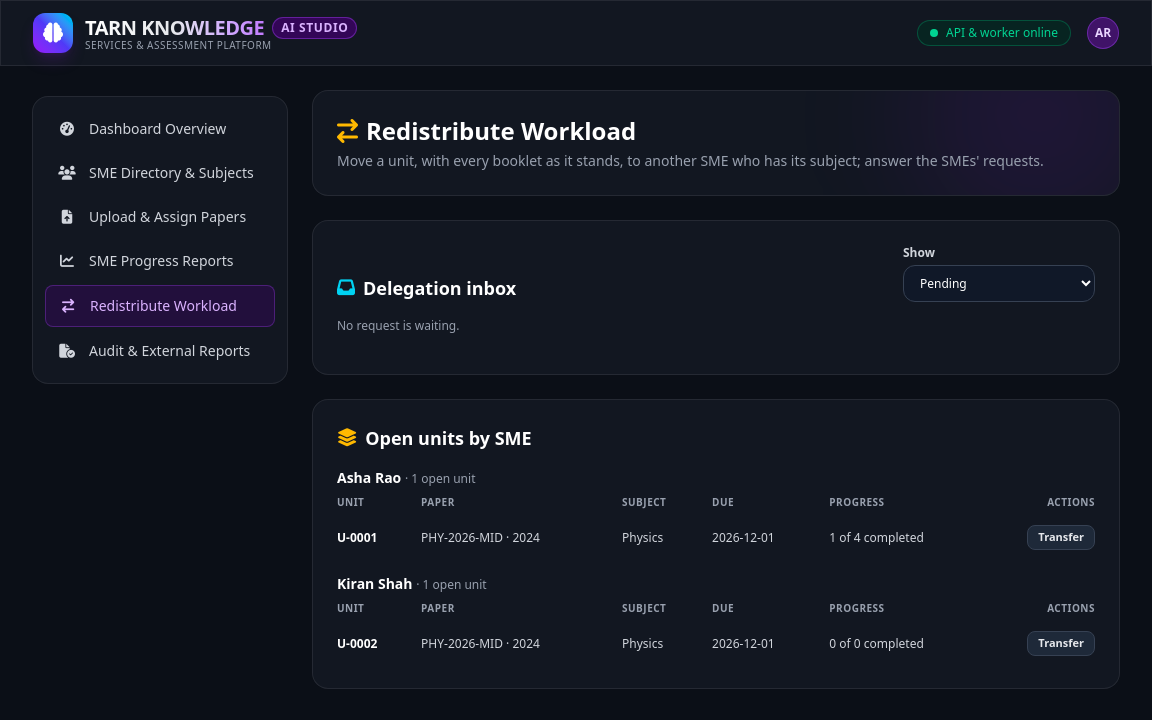
Test: Redistribute Workload › filters the inbox by state
Expected: the text "No request is waiting." is shown, [337,317,459,334]
Select "Declined" in the dropdown labelled "Show": (999, 284) [903,265,1095,302]
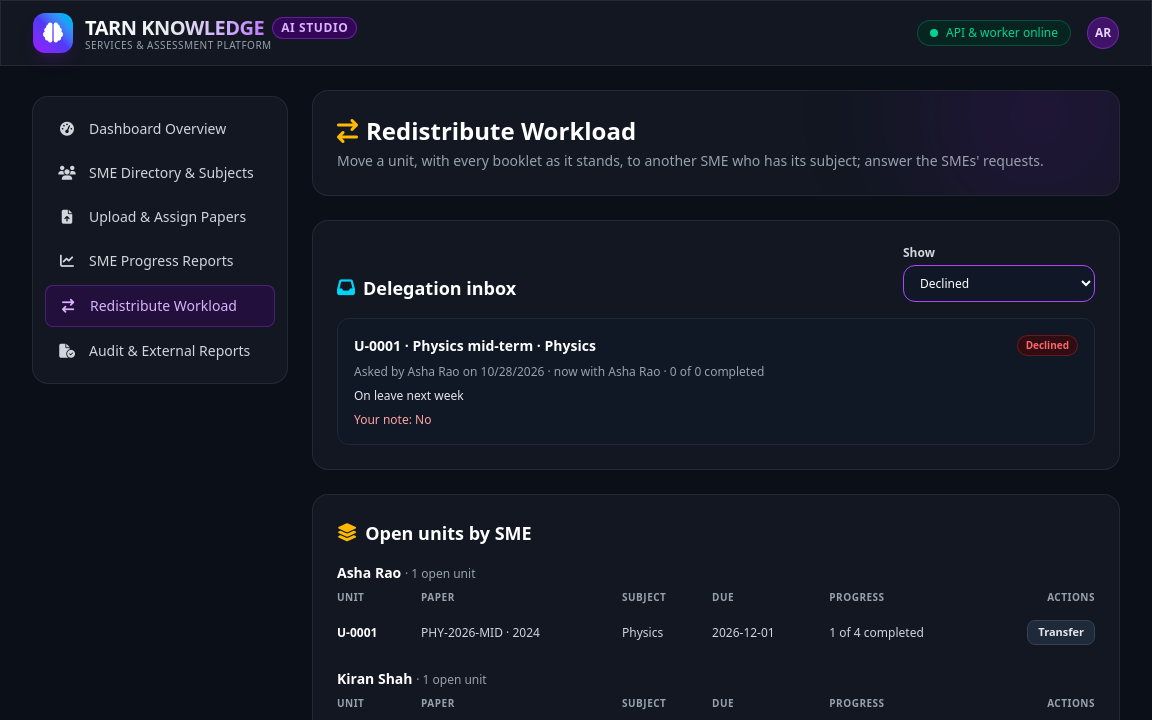
Expected: the text "Declined" is shown, [1017,335,1078,356]
